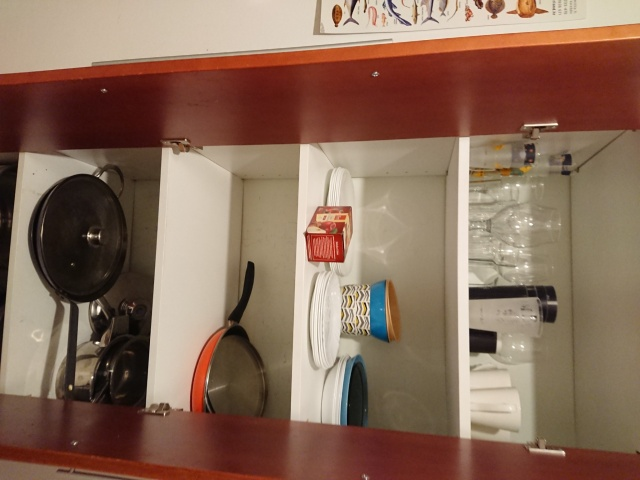Franck Apple Cinnamon Tea 60g: (302, 203, 356, 265)
